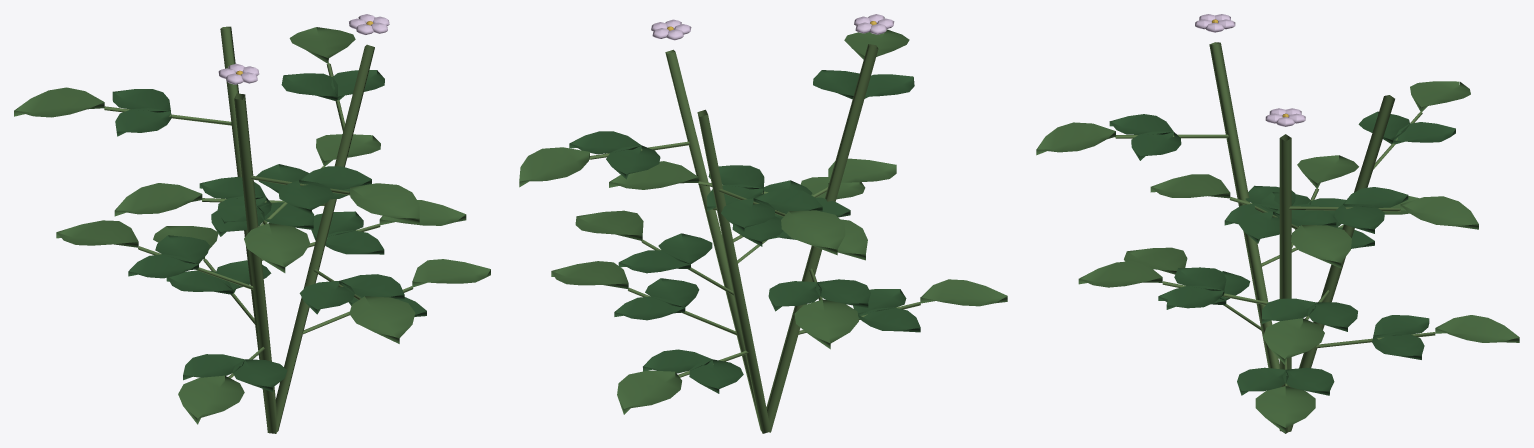
The model's file is papa.glb.
3 renders of one model, left to right at view 1: azimuth 30°, elevation 25°; view 2: azimuth 150°, elevation 25°; view 3: azimuth 270°, elevation 25°, orthographic. The views are drawn at different scales.
Parts seen in each view (by area): view 1: papa; view 2: papa; view 3: papa.
Part boxes in pixels (left/top/right/bottom): papa: left=14, top=14, right=490, bottom=433; papa: left=519, top=14, right=1007, bottom=433; papa: left=1036, top=14, right=1519, bottom=433.
Bounding box in the file's own units: 0.6345 × 0.642 × 0.741.
